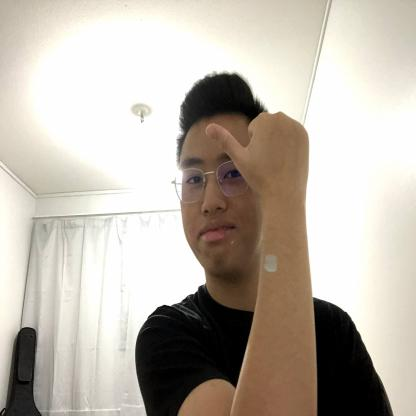right: (205, 111, 311, 199)
